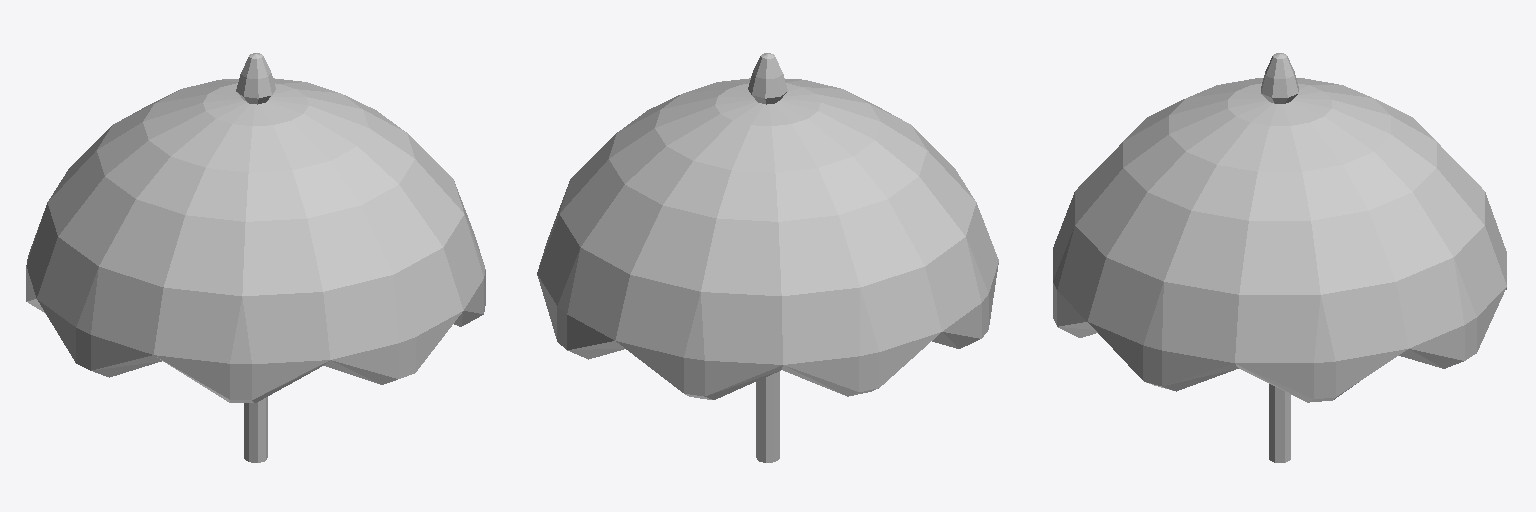
The model's file is parasol_red.obj.
3 renders of one model, left to right at view 1: azimuth 30°, elevation 25°; view 2: azimuth 150°, elevation 25°; view 3: azimuth 270°, elevation 25°, orthographic.
Parts seen in each view (by area): view 1: parasol_red; view 2: parasol_red; view 3: parasol_red.
Boxes of the visible parts, box(x1,y1,x2,y2) form: parasol_red: box(26, 53, 485, 462); parasol_red: box(537, 53, 998, 462); parasol_red: box(1053, 53, 1506, 462).
Bounding box in the file's own units: 2 × 1.96 × 2.